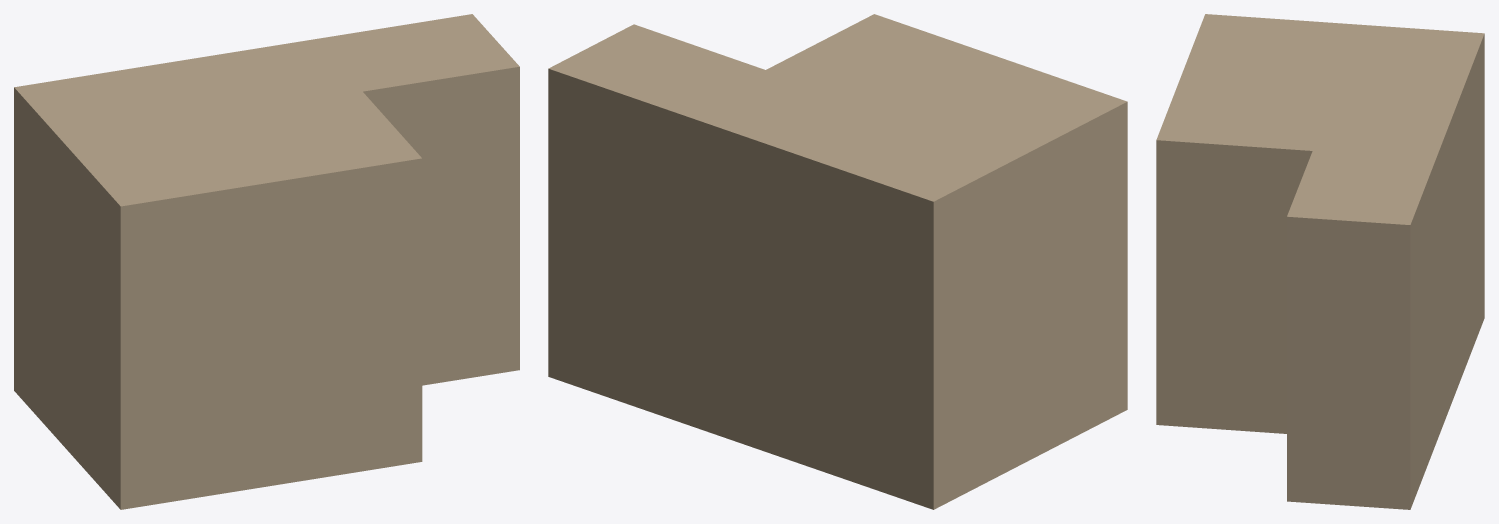
Rendered from bld_100469536.dae.
3 renders of one model, left to right at view 1: azimuth 30°, elevation 25°; view 2: azimuth 150°, elevation 25°; view 3: azimuth 270°, elevation 25°, orthographic. The views are drawn at different scales.
Visible parts, largest first — view 1: bld_100469536; view 2: bld_100469536; view 3: bld_100469536.
Part boxes in pixels (bbox=[...]): bld_100469536: bbox=[14, 14, 519, 509]; bld_100469536: bbox=[548, 14, 1127, 509]; bld_100469536: bbox=[1156, 14, 1484, 509].
Bounding box in the file's own units: 12.72 × 8.36 × 8.
